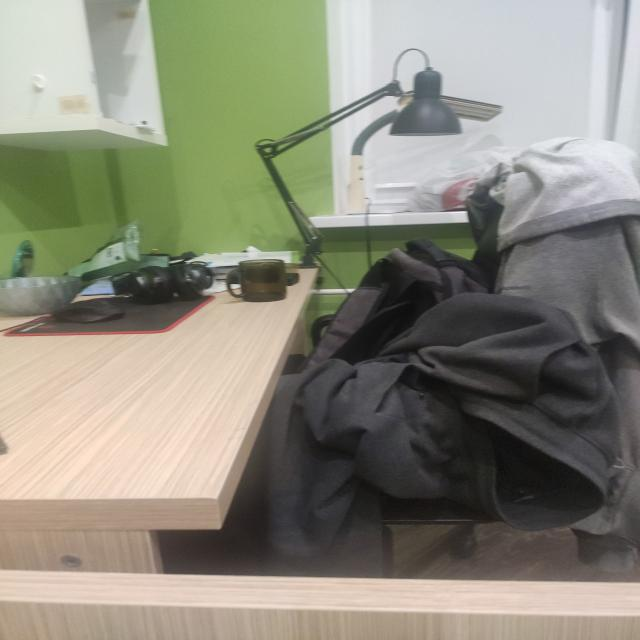cups: (226, 259, 287, 302)
